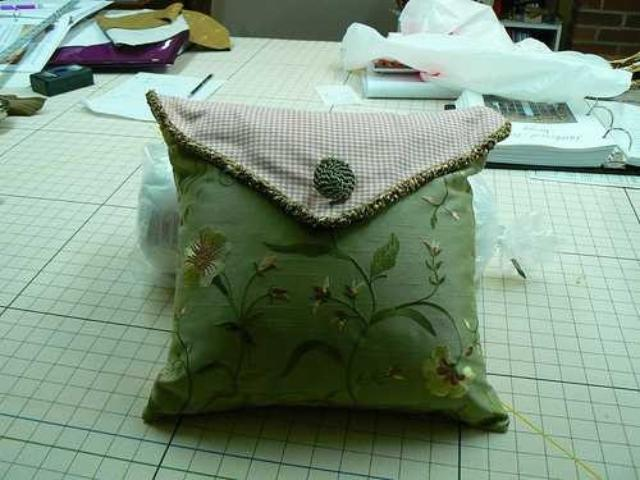pillow: (138, 89, 512, 432)
